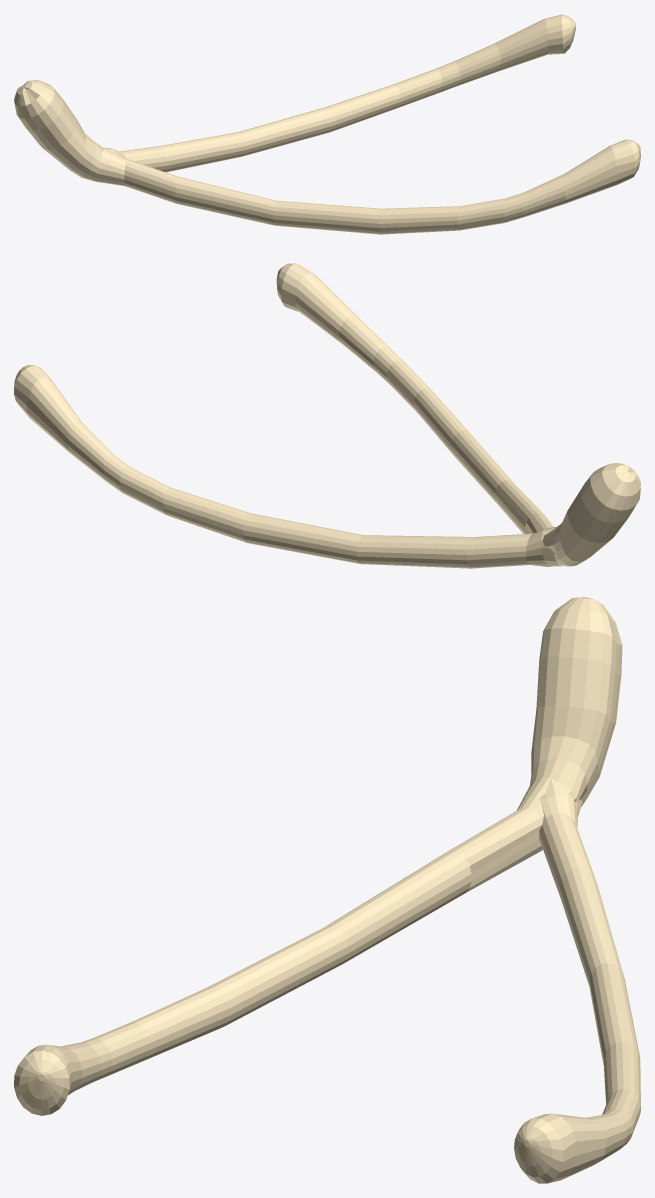
The model's file is bKgxmU7f5-j.glb.
The picture shows the model from 3 angles, top to bottom: view 1: azimuth 30°, elevation 25°; view 2: azimuth 150°, elevation 25°; view 3: azimuth 270°, elevation 25°; orthographic projection. The views are drawn at different scales.
Parts seen in each view (by area): view 1: Cylinder002; view 2: Cylinder002; view 3: Cylinder002.
Boxes of the visible parts, left/top/right/bottom form: Cylinder002: left=14, top=14, right=640, bottom=234; Cylinder002: left=14, top=263, right=640, bottom=568; Cylinder002: left=14, top=597, right=640, bottom=1183.
Bounding box in the file's own units: 4.3 × 0.9999 × 2.49.
